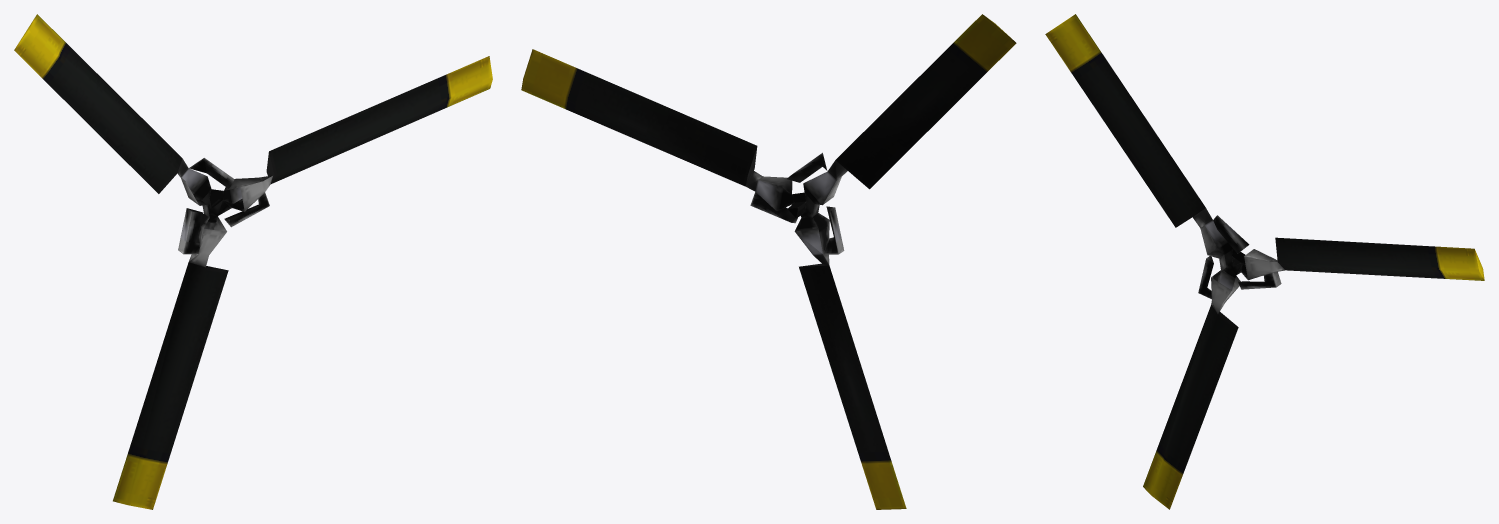
Rendered from backBlade10.obj.
3 renders of one model, left to right at view 1: azimuth 30°, elevation 25°; view 2: azimuth 150°, elevation 25°; view 3: azimuth 330°, elevation 25°, orthographic. The views are drawn at different scales.
Parts seen in each view (by area): view 1: Null_glass.005_Body; view 2: Null_glass.005_Body; view 3: Null_glass.005_Body.
Part boxes in pixels (x1,y1,x2,y2): Null_glass.005_Body: (14,14,492,509); Null_glass.005_Body: (521,14,1016,509); Null_glass.005_Body: (1045,14,1484,509).
Bounding box in the file's own units: 1.4 × 1.44 × 0.0838.
Materials: 1 (1 with a texture image).
